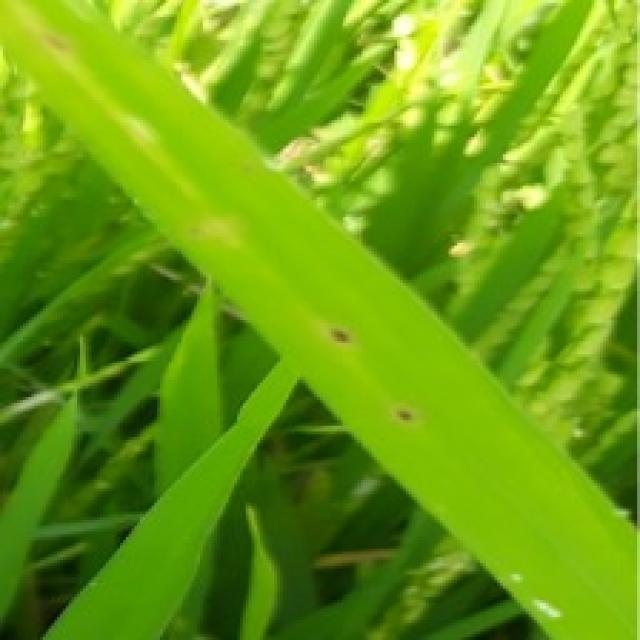Rice___Brown_Spot: (0, 1, 637, 637)
